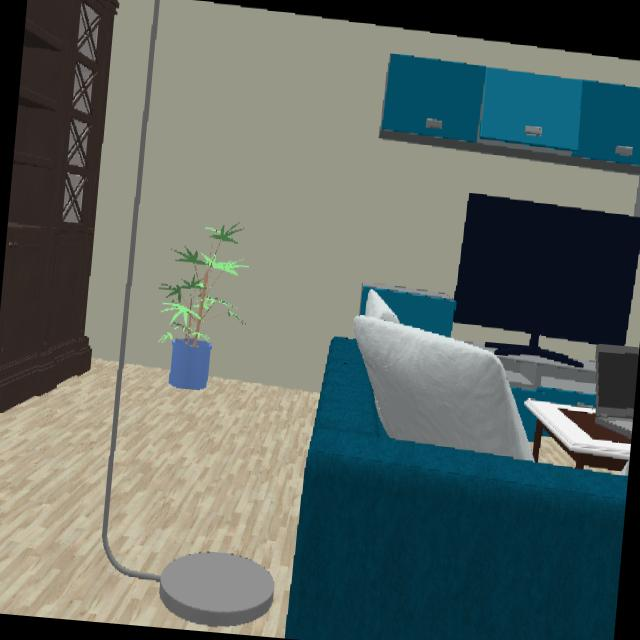cabinet: (381, 56, 640, 173), (499, 356, 595, 439), (360, 286, 455, 336)
laptop: (595, 344, 639, 438)
monitor: (455, 194, 640, 367)
pillow: (353, 316, 530, 459), (366, 290, 399, 322)
sofa: (287, 338, 627, 640)
table: (524, 399, 630, 470)
